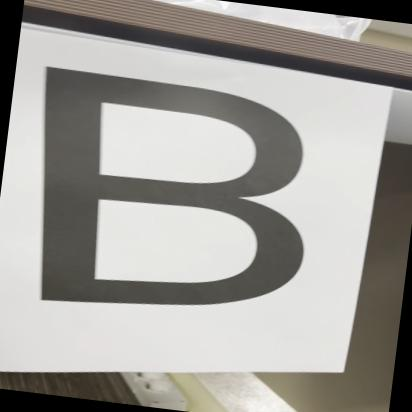seat: (0, 47, 357, 340)
